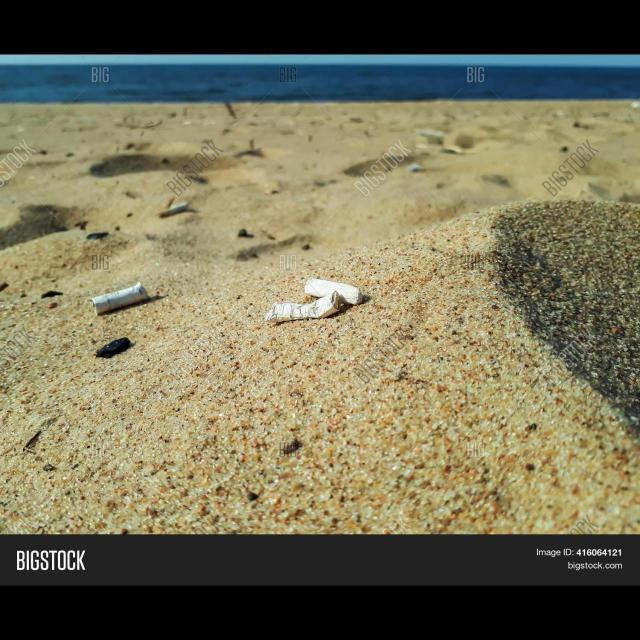cigarette: (265, 291, 341, 323), (91, 282, 150, 316), (304, 278, 363, 305)
